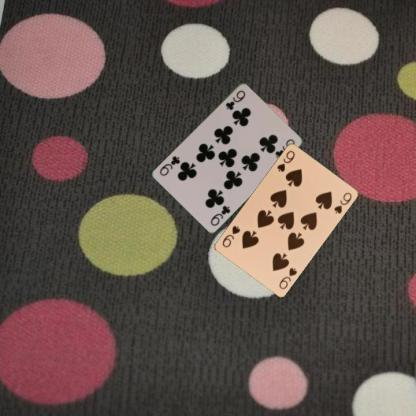9c: (207, 203, 232, 227), (223, 87, 247, 111)
9s: (274, 147, 296, 173), (276, 264, 298, 290)
